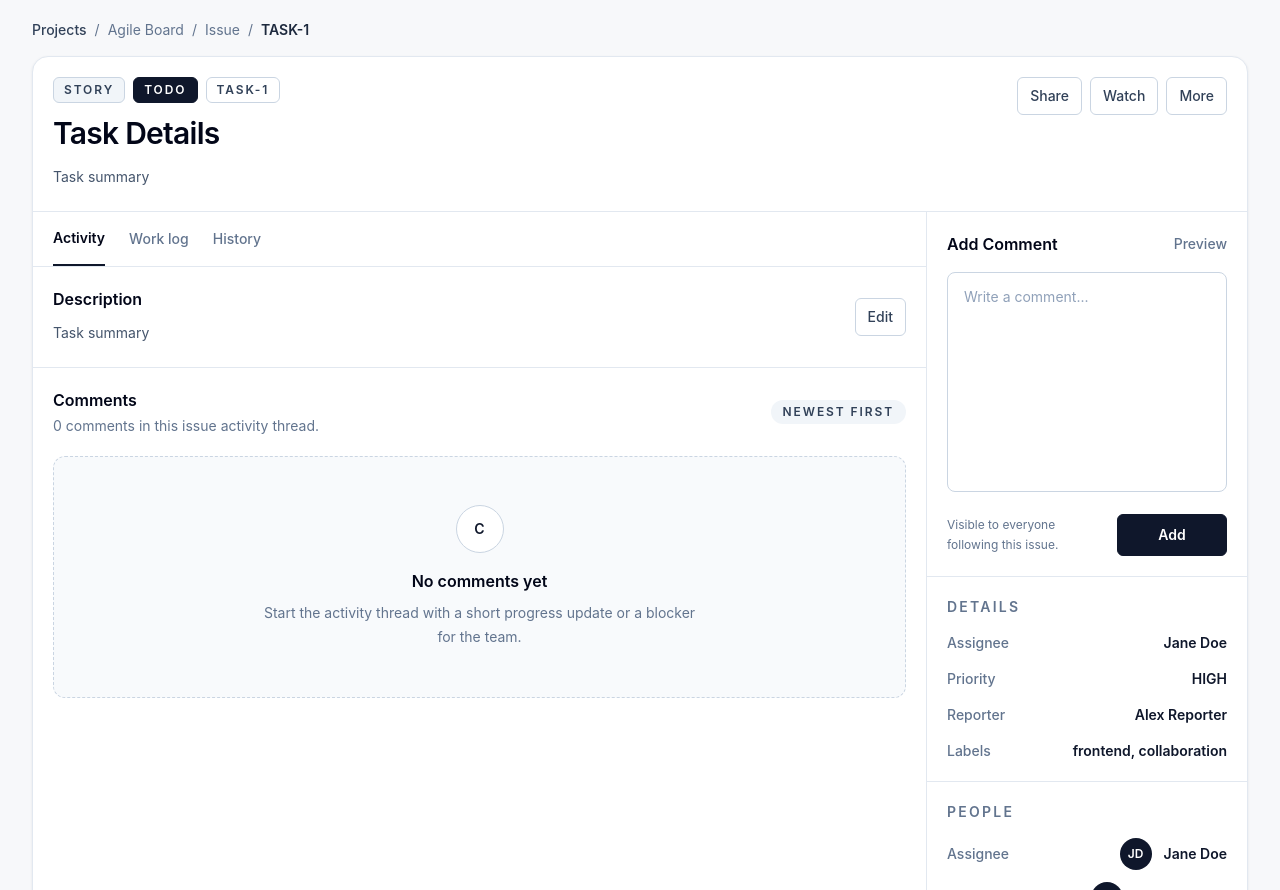
Test: TaskDetails states › shows an add comment error message when the mutation rejects
The width and height of the screenshot is (1280, 890).
Type "Please update the copy" into the text box with placeholder "Write a comment...".
click(1087, 382); type("Please update the copy")  # box [947,272,1227,492]
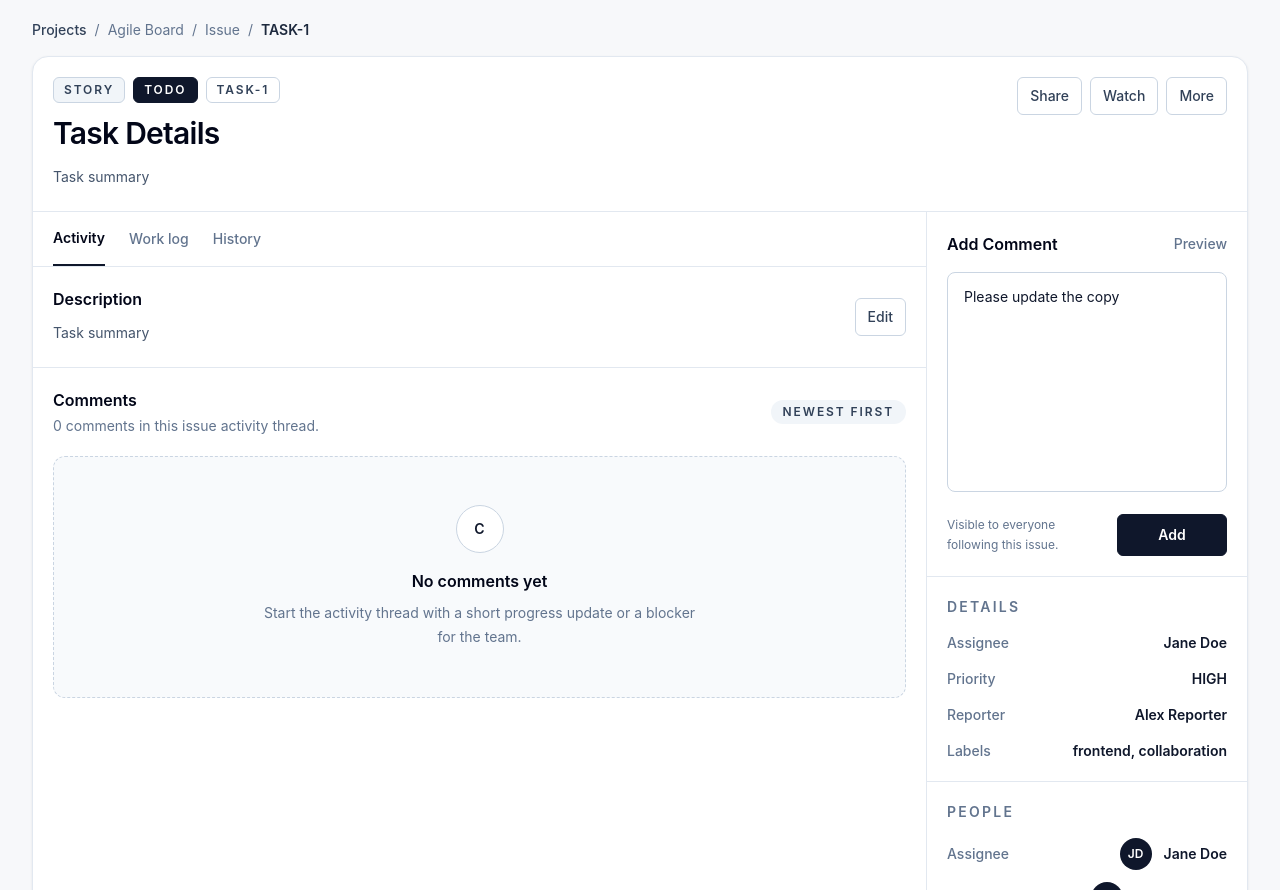
Click the button "Add".
click(1172, 535)  # box [1117,514,1227,556]
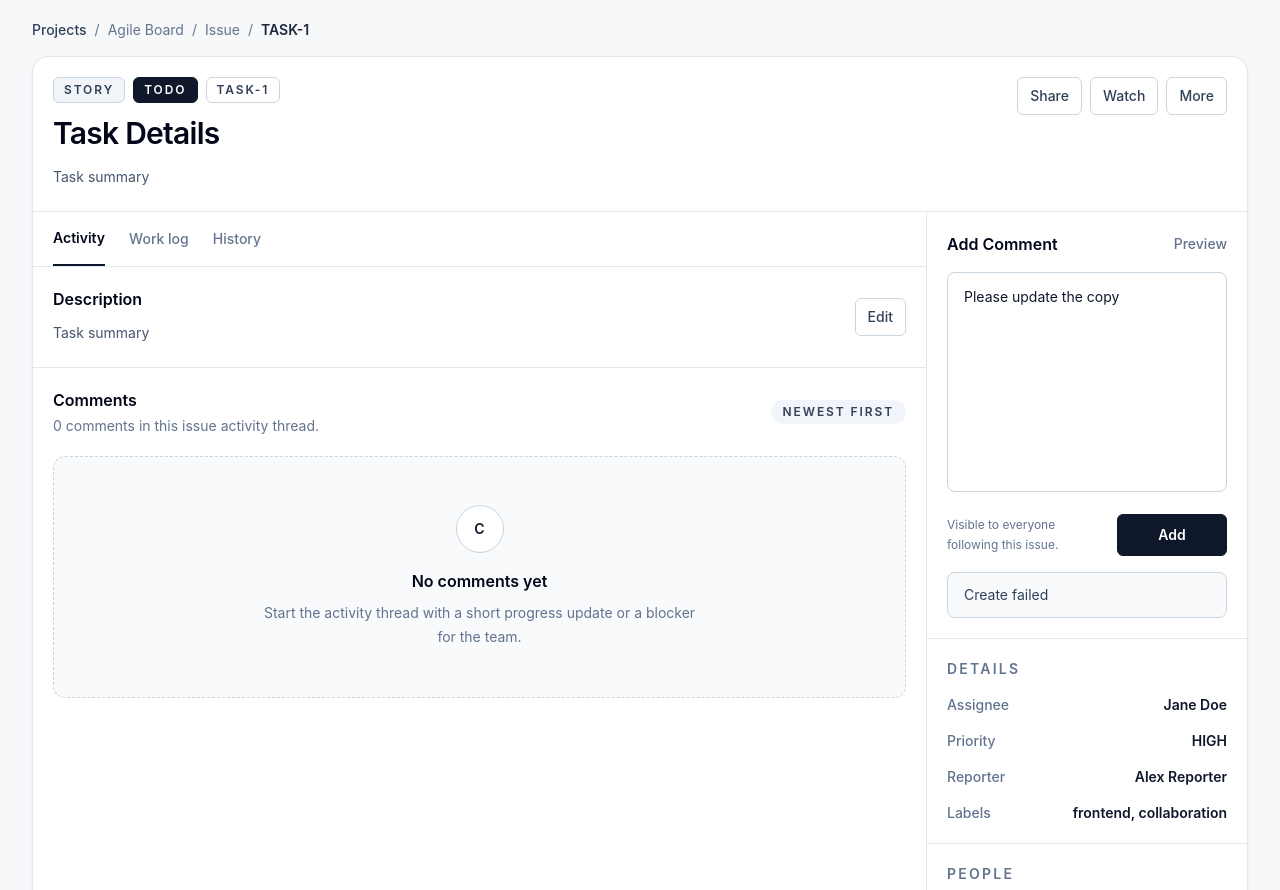
expect the text "Create failed" is shown: met, box [947,572,1227,618]
